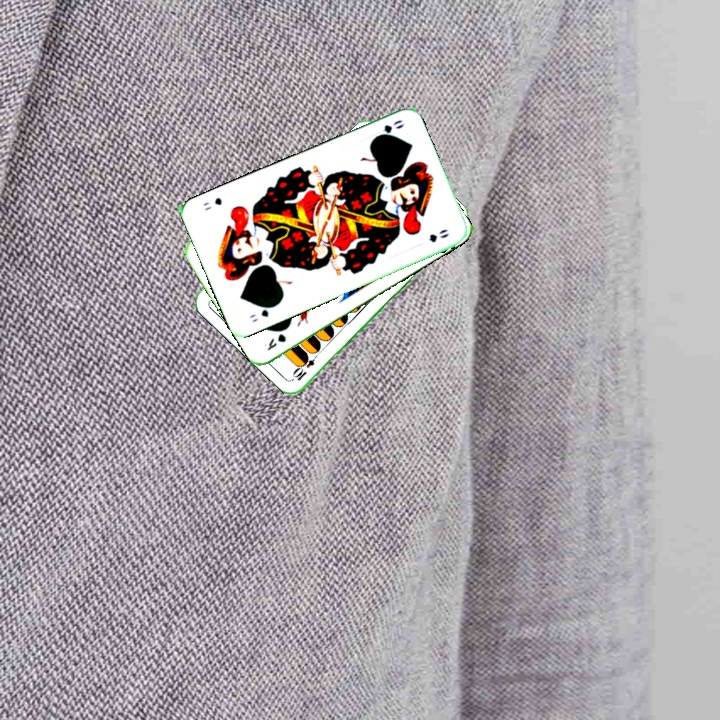E10: (289, 348, 322, 383)
GK: (260, 329, 289, 353)
GO: (369, 115, 407, 142), (245, 300, 280, 325)
